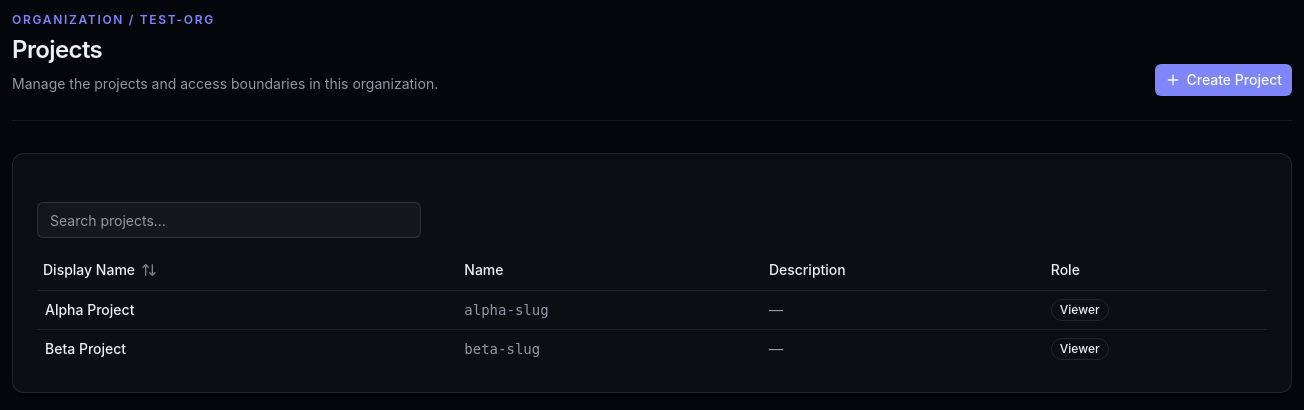
Test: ProjectsIndexPage › search input filters visible rows by slug
Type "beta-slug" into the field with placeholder "Search projects…" at [229, 220], box [37, 202, 421, 238]
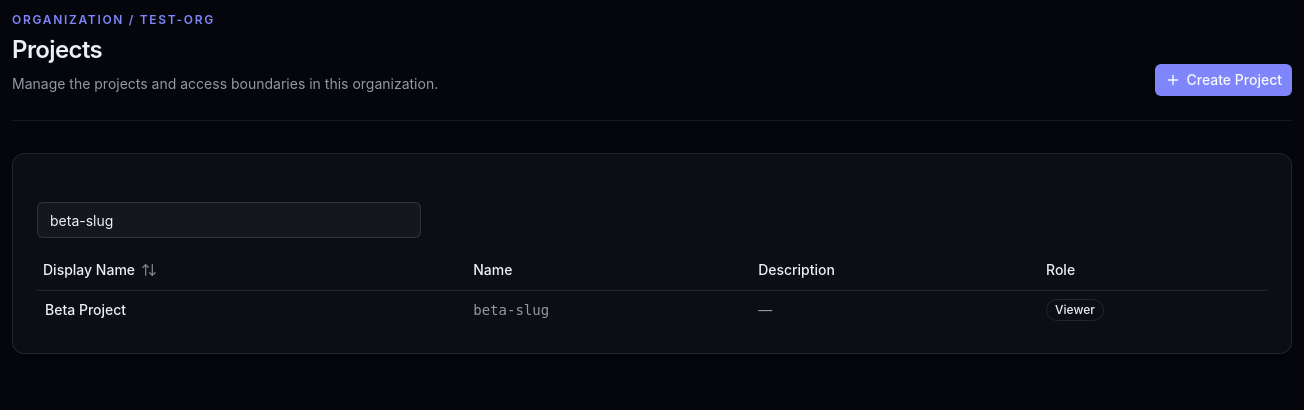
Expected: the text "Beta Project" is shown, [45, 300, 126, 318]
Now the text "Alpha Project" is gone
